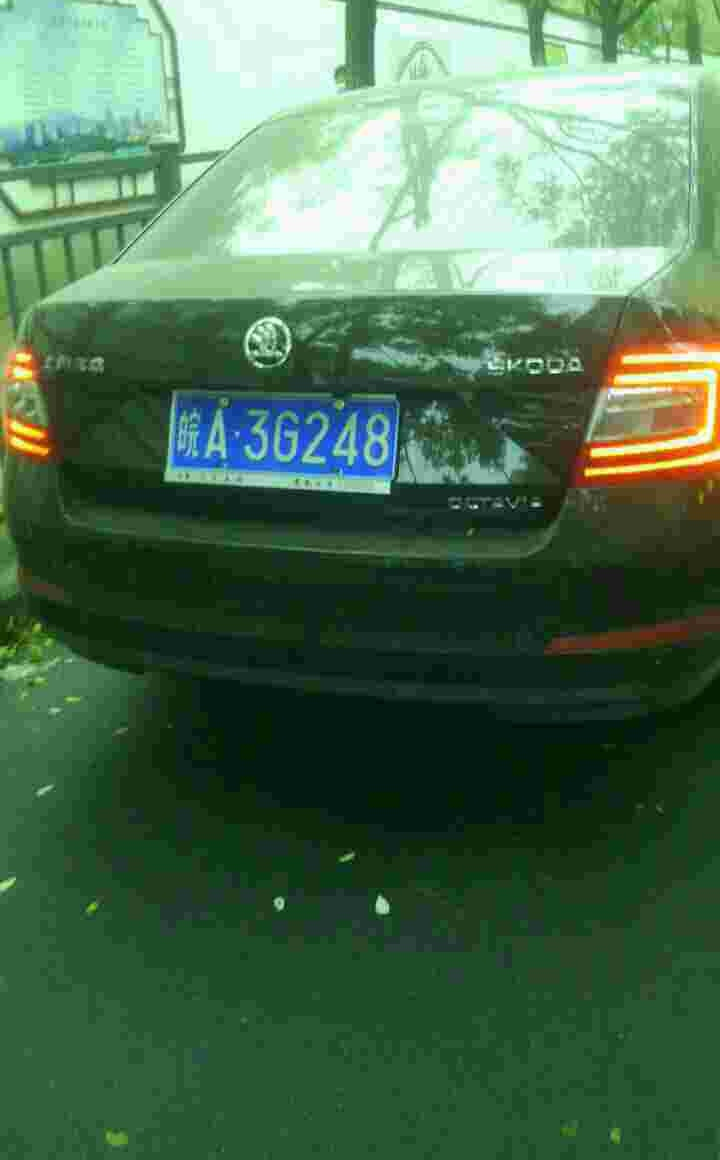license_plate: (173, 389, 397, 472)
